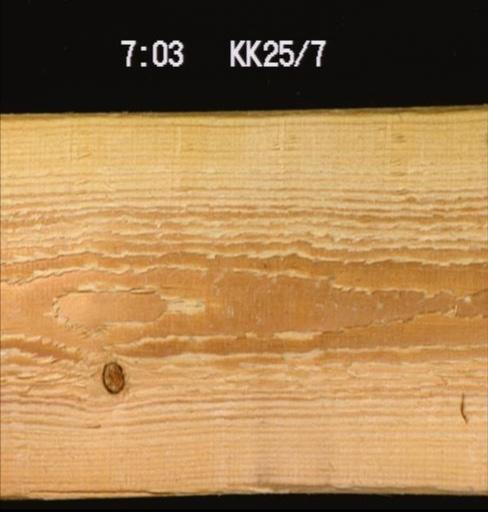wave: (2, 101, 312, 128), (243, 472, 483, 499)
